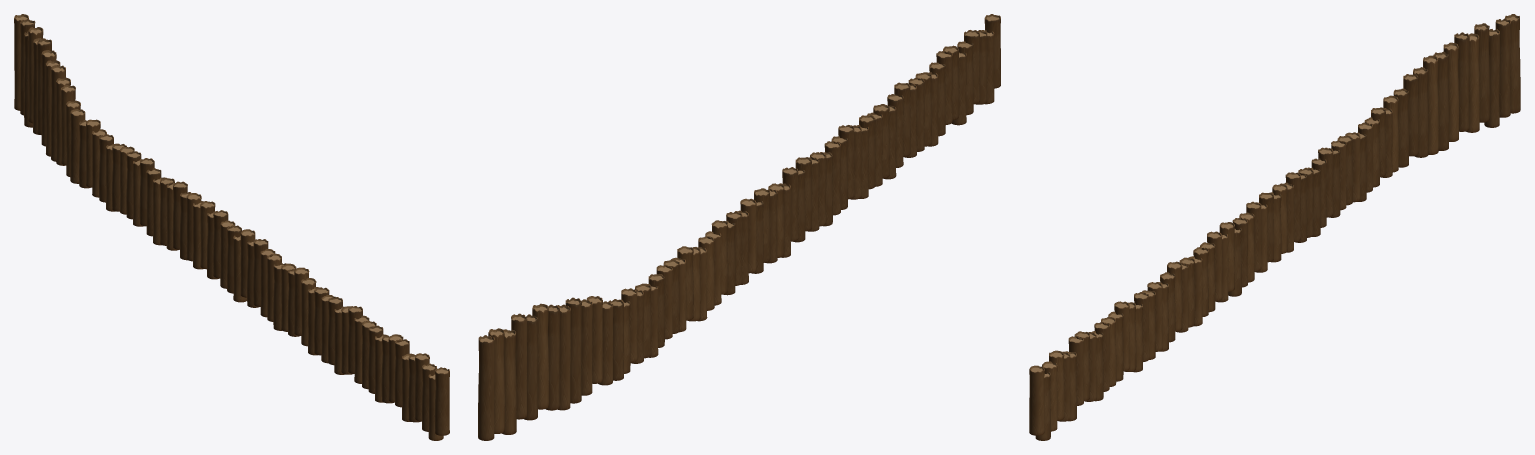
Rendered from Zone1_Big_log_Wall.fbx.
3 renders of one model, left to right at view 1: azimuth 30°, elevation 25°; view 2: azimuth 150°, elevation 25°; view 3: azimuth 330°, elevation 25°, orthographic. The views are drawn at different scales.
Parts seen in each view (by area): view 1: Log_Wall_piece.150; view 2: Log_Wall_piece.150; view 3: Log_Wall_piece.150.
Boxes of the visible parts, left/top/right/bottom form: Log_Wall_piece.150: left=14, top=14, right=449, bottom=440; Log_Wall_piece.150: left=478, top=14, right=1000, bottom=440; Log_Wall_piece.150: left=1029, top=14, right=1520, bottom=440.
Bounding box in the file's own units: 190 × 419 × 3331.
1 material, 1 textured.
